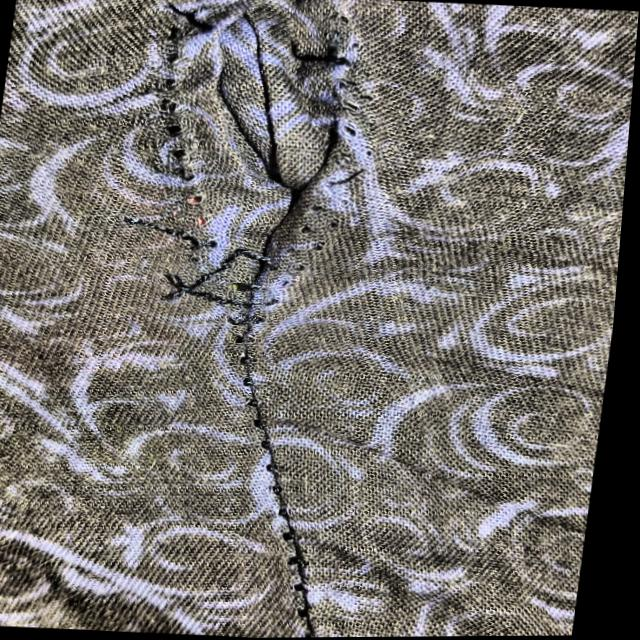seam: (86, 0, 387, 344)
